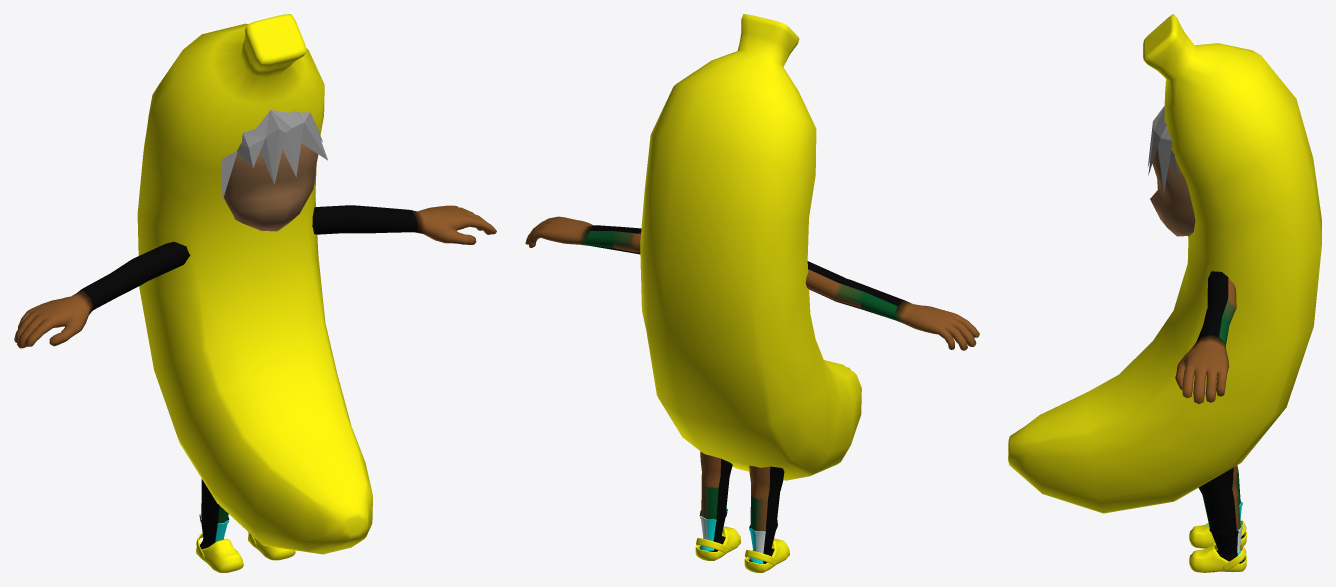
The model's file is banana.FBX.
The picture shows the model from 3 angles, left to right: view 1: azimuth 30°, elevation 25°; view 2: azimuth 150°, elevation 25°; view 3: azimuth 270°, elevation 25°; orthographic projection. The views are drawn at different scales.
Visible parts, largest first — view 1: Banana, calcetin006, Group004, Mesh_rdmobj005; view 2: Banana, calcetin006; view 3: Banana, calcetin006, Group004, Mesh_rdmobj005.
Boxes of the visible parts, bbox=[...] form: Banana: bbox=[137, 14, 372, 554]; calcetin006: bbox=[14, 205, 496, 572]; Group004: bbox=[223, 143, 318, 231]; Mesh_rdmobj005: bbox=[222, 110, 327, 200]; Banana: bbox=[640, 14, 861, 480]; calcetin006: bbox=[525, 216, 979, 572]; Banana: bbox=[1008, 14, 1321, 513]; calcetin006: bbox=[1175, 271, 1246, 572]; Group004: bbox=[1150, 147, 1195, 236]; Mesh_rdmobj005: bbox=[1147, 106, 1178, 193].
Bounding box in the file's own units: 135 × 151 × 80.29.
